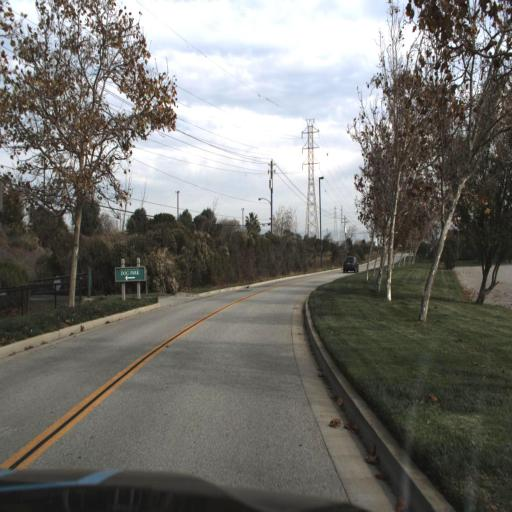car: (339, 253, 360, 276)
